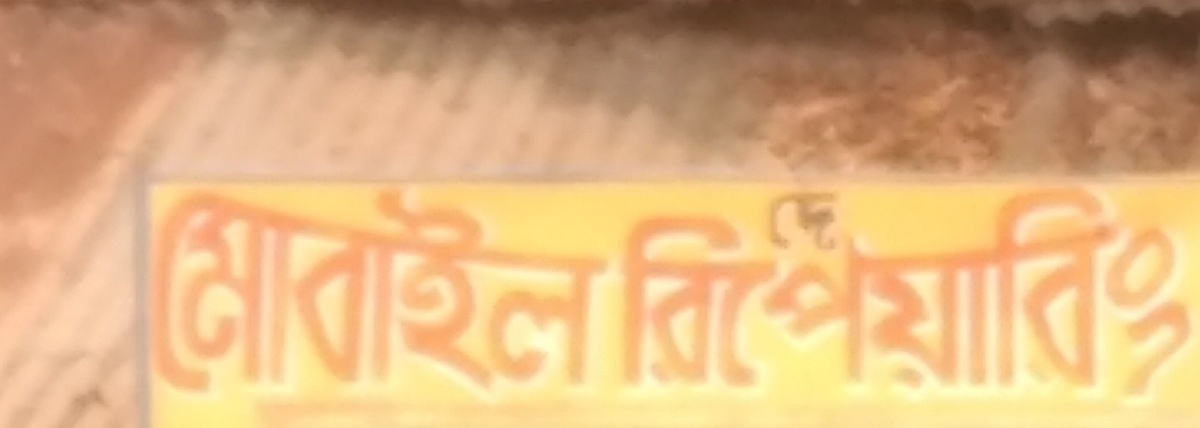text: (625, 171, 640, 402), (641, 171, 656, 402), (657, 171, 672, 402), (673, 171, 688, 402), (689, 171, 704, 402), (705, 171, 720, 402), (721, 171, 736, 402), (737, 171, 752, 402), (753, 171, 768, 402), (769, 171, 784, 402), (785, 171, 800, 402), (801, 171, 816, 402), (817, 171, 832, 402), (833, 171, 848, 402), (849, 171, 864, 402), (865, 171, 880, 402), (881, 171, 896, 402), (897, 171, 912, 402), (913, 171, 928, 402), (929, 171, 944, 402), (945, 171, 960, 402), (961, 171, 976, 402), (977, 171, 992, 402), (993, 171, 1008, 402), (1009, 171, 1024, 402), (1025, 171, 1040, 402), (1041, 171, 1056, 402), (1057, 171, 1072, 402), (1073, 171, 1088, 402), (1089, 171, 1104, 402), (1105, 171, 1120, 402), (1121, 171, 1136, 402), (1137, 171, 1152, 402), (1153, 171, 1168, 402), (1169, 171, 1184, 402), (161, 181, 176, 402), (177, 181, 192, 402), (193, 181, 208, 402), (209, 181, 224, 402), (225, 181, 240, 402), (241, 181, 256, 402), (257, 181, 272, 402), (273, 181, 288, 402), (289, 181, 304, 402), (305, 181, 320, 402), (321, 181, 336, 402), (337, 181, 352, 402), (353, 181, 368, 402), (369, 181, 384, 402), (385, 181, 400, 402), (401, 181, 416, 402), (417, 181, 432, 402), (433, 181, 448, 402), (449, 181, 464, 402), (465, 181, 480, 402), (481, 181, 496, 402), (497, 181, 512, 402), (513, 181, 528, 402), (529, 181, 544, 402), (545, 181, 560, 402), (561, 181, 576, 402), (577, 181, 592, 402), (593, 181, 608, 402), (610, 171, 624, 402), (147, 181, 160, 402), (1185, 171, 1195, 402), (769, 188, 784, 259), (785, 188, 800, 259), (801, 188, 816, 259), (817, 188, 832, 259), (833, 188, 848, 259), (609, 181, 613, 402), (757, 188, 768, 259)
